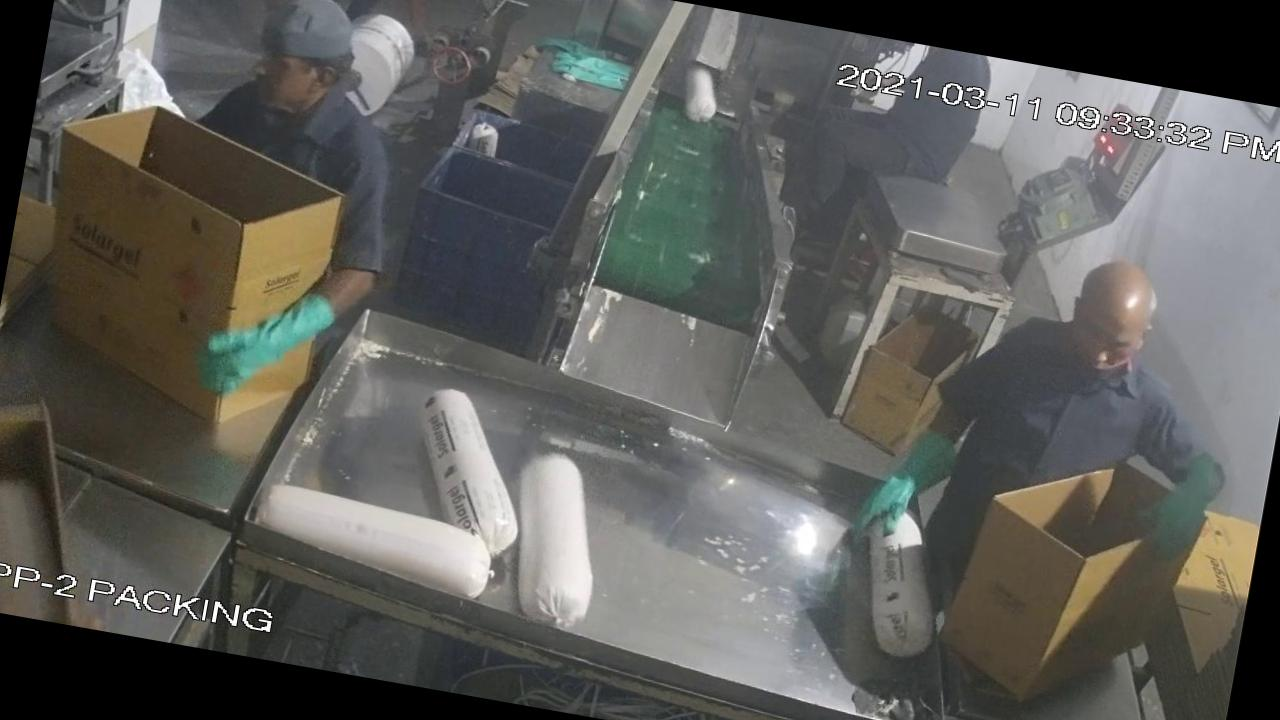Gloves: (182, 256, 337, 418), (842, 403, 976, 567), (1132, 450, 1226, 573)
No-gloves: (378, 0, 448, 43)
